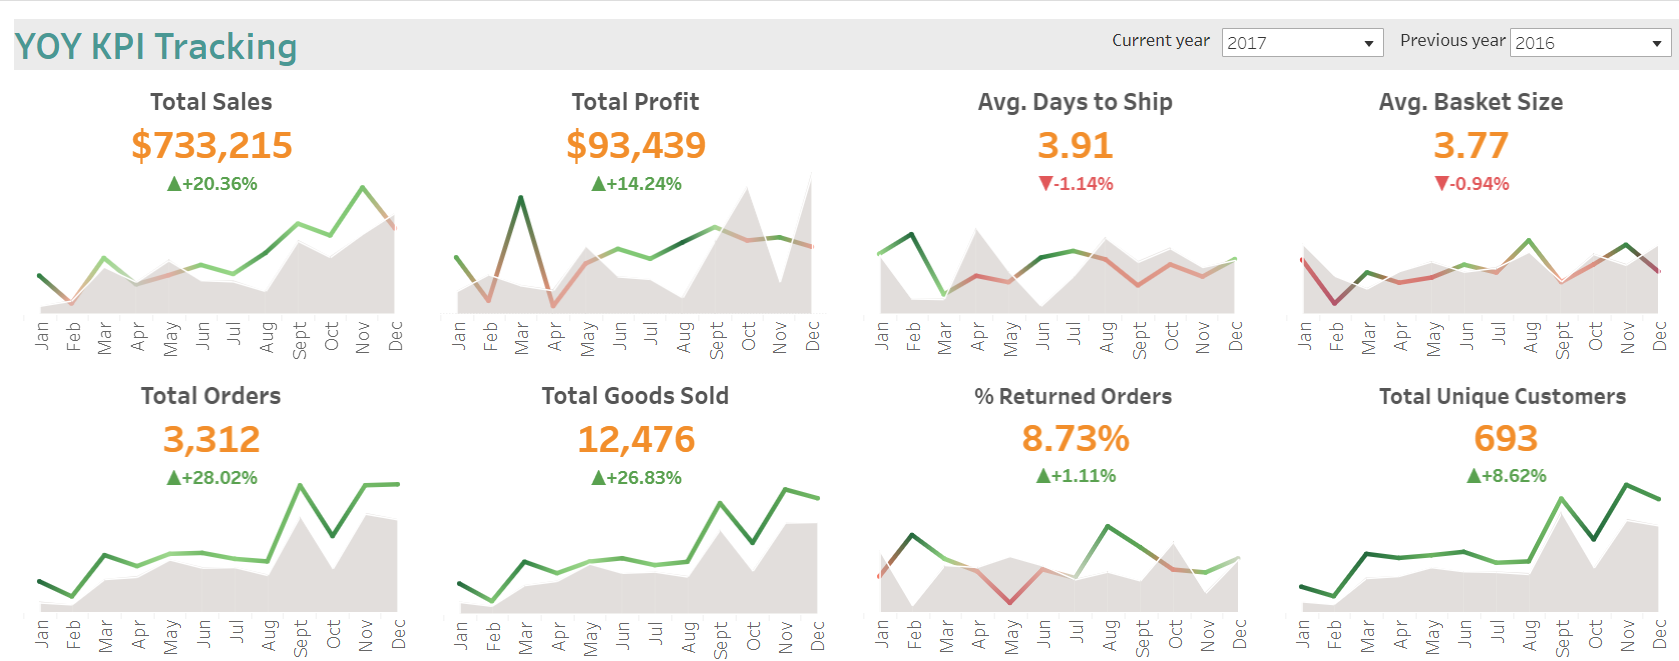

This screenshot's page, from the dashboard's own definition file:
{"tool":"tableau","page":{"name":"YOY KPI Tracking","canvas":[1137,455],"ordinal":0},"visuals":[{"type":"title","box":[8,8,1121,42]},{"type":"parameter","param":"[Parameters].[Parameter 1]","box":[744.4,18.1,181.8,27.1]},{"type":"parameter","param":"[Parameters].[p.current_year (copy)_559713046498160644]","box":[935.8,18.1,181.8,27.1]},{"type":"worksheet","title":"basket size text","mark":"Automatic","box":[906,39,155,106]},{"type":"worksheet","title":"sales text","mark":"Automatic","box":[66,49,156,86]},{"type":"worksheet","title":"profit text","mark":"Automatic","box":[349,49,155,86]},{"type":"worksheet","title":"days to ship text","mark":"Automatic","box":[642,49,155,86]},{"type":"worksheet","title":"sales graph","mark":"Automatic","rows":["Calculation_559713046498721797","CY sales (copy)_559713046499057670"],"cols":["Order Date"],"box":[8,50,278.1,198.5]},{"type":"worksheet","title":"profit graph","mark":"Automatic","rows":["CY sales (copy)_559713046499196935","PY sales  (copy)_559713046499217416"],"cols":["Order Date"],"box":[286.1,50,278.1,198.5]},{"type":"worksheet","title":"days to ship graph","mark":"Automatic","rows":["CY profit (copy) (copy) (copy)_559713046509051920","CY days to ship (copy)_559713046512132119"],"cols":["Order Date"],"box":[564.3,50,286.1,198.5]},{"type":"worksheet","title":"basket size graph","mark":"Automatic","rows":["CY Returned Orders (copy) (copy)_559713046511132693","CY basket size (copy)_559713046512111638"],"cols":["Order Date"],"box":[850.4,50,278.1,198.5]},{"type":"worksheet","title":"orders text","mark":"Automatic","box":[66,245,155,86]},{"type":"worksheet","title":"total goods sold text","mark":"Automatic","box":[349,245,155,86]},{"type":"worksheet","title":"returned order text","mark":"Automatic","box":[642,245,155,86]},{"type":"worksheet","title":"unique customers text","mark":"Automatic","box":[906,245,201,86]},{"type":"worksheet","title":"orders graph","mark":"Automatic","rows":["CY profit (copy)_559713046509002766","CY orders (copy)_559713046512156696"],"cols":["Order Date"],"box":[8,248.5,279.6,198.5]},{"type":"worksheet","title":"total goods sold graph","mark":"Automatic","rows":["CY profit (copy) (copy)_559713046509039631","CY total goods sold (copy)_559713046512226330"],"cols":["Order Date"],"box":[287.6,248.5,280.3,198.5]},{"type":"worksheet","title":"returned orders graph","mark":"Automatic","rows":["CY days to ship (copy)_559713046510723091","CY Returned Orders (copy)_559713046512185369"],"cols":["Order Date"],"box":[567.9,248.5,280.7,198.5]},{"type":"worksheet","title":"unique customers graph","mark":"Automatic","rows":["CY days to ship (copy)_559713046510256146","CY unique customers (copy)_559713046512250907"],"cols":["Order Date"],"box":[848.6,248.5,280.4,198.5]}]}

Visuals, with their boxes in screenshot pixels (x1, y1, x2, y2), scaled from the page's 1137x455 canvas onto the 1679x661 screenshot:
title: (12, 12, 1667, 73)
parameter: (1099, 26, 1368, 66)
parameter: (1382, 26, 1650, 66)
"basket size text" worksheet: (1338, 57, 1567, 211)
"sales text" worksheet: (97, 71, 328, 196)
"profit text" worksheet: (515, 71, 744, 196)
"days to ship text" worksheet: (948, 71, 1177, 196)
"sales graph" worksheet: (12, 73, 422, 361)
"profit graph" worksheet: (422, 73, 833, 361)
"days to ship graph" worksheet: (833, 73, 1256, 361)
"basket size graph" worksheet: (1256, 73, 1666, 361)
"orders text" worksheet: (97, 356, 326, 481)
"total goods sold text" worksheet: (515, 356, 744, 481)
"returned order text" worksheet: (948, 356, 1177, 481)
"unique customers text" worksheet: (1338, 356, 1635, 481)
"orders graph" worksheet: (12, 361, 425, 649)
"total goods sold graph" worksheet: (425, 361, 839, 649)
"returned orders graph" worksheet: (839, 361, 1253, 649)
"unique customers graph" worksheet: (1253, 361, 1667, 649)
